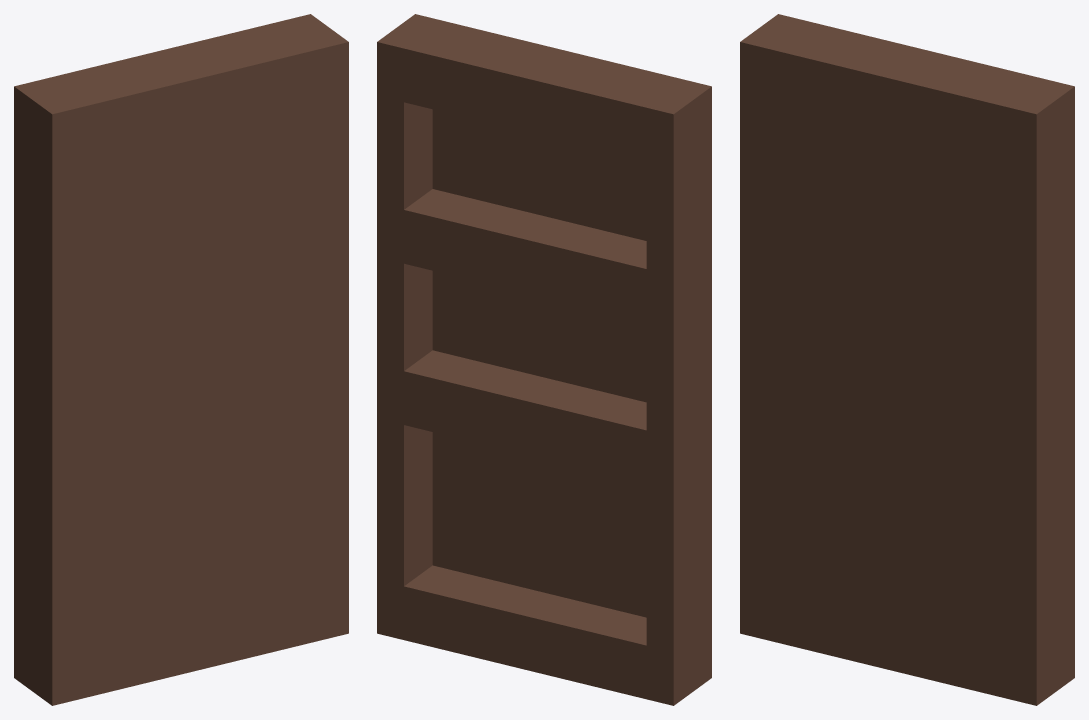
File: Bookshelf[1].fbx
The picture shows the model from 3 angles, left to right: view 1: azimuth 30°, elevation 25°; view 2: azimuth 150°, elevation 25°; view 3: azimuth 330°, elevation 25°; orthographic projection.
Parts seen in each view (by area): view 1: Cube_Cube.004, Cube_Cube.008, Cube_Cube.002, Cube_Cube.003; view 2: Cube_Cube.003, Cube_Cube.008, Cube_Cube.002, Cube_Cube.007, Cube_Cube.006, Cube_Cube.001, Cube_Cube.005, Cube_Cube.004; view 3: Cube_Cube.004, Cube_Cube.007, Cube_Cube.002, Cube_Cube.003.
Part boxes in pixels (left/top/right/bottom): Cube_Cube.004: left=42, top=35, right=348, bottom=705; Cube_Cube.008: left=14, top=140, right=42, bottom=644; Cube_Cube.002: left=14, top=14, right=338, bottom=107; Cube_Cube.003: left=14, top=86, right=42, bottom=698; Cube_Cube.003: left=432, top=94, right=702, bottom=705; Cube_Cube.008: left=646, top=147, right=702, bottom=651; Cube_Cube.002: left=377, top=21, right=701, bottom=167; Cube_Cube.007: left=377, top=96, right=432, bottom=586; Cube_Cube.006: left=377, top=565, right=673, bottom=705; Cube_Cube.001: left=404, top=189, right=646, bottom=322; Cube_Cube.005: left=404, top=350, right=646, bottom=483; Cube_Cube.004: left=406, top=14, right=711, bottom=684; Cube_Cube.004: left=740, top=35, right=1046, bottom=705; Cube_Cube.007: left=1046, top=140, right=1074, bottom=644; Cube_Cube.002: left=750, top=14, right=1074, bottom=107; Cube_Cube.003: left=1046, top=86, right=1074, bottom=698.
Size of the model in its own units: 151 by 288 by 33.75.
